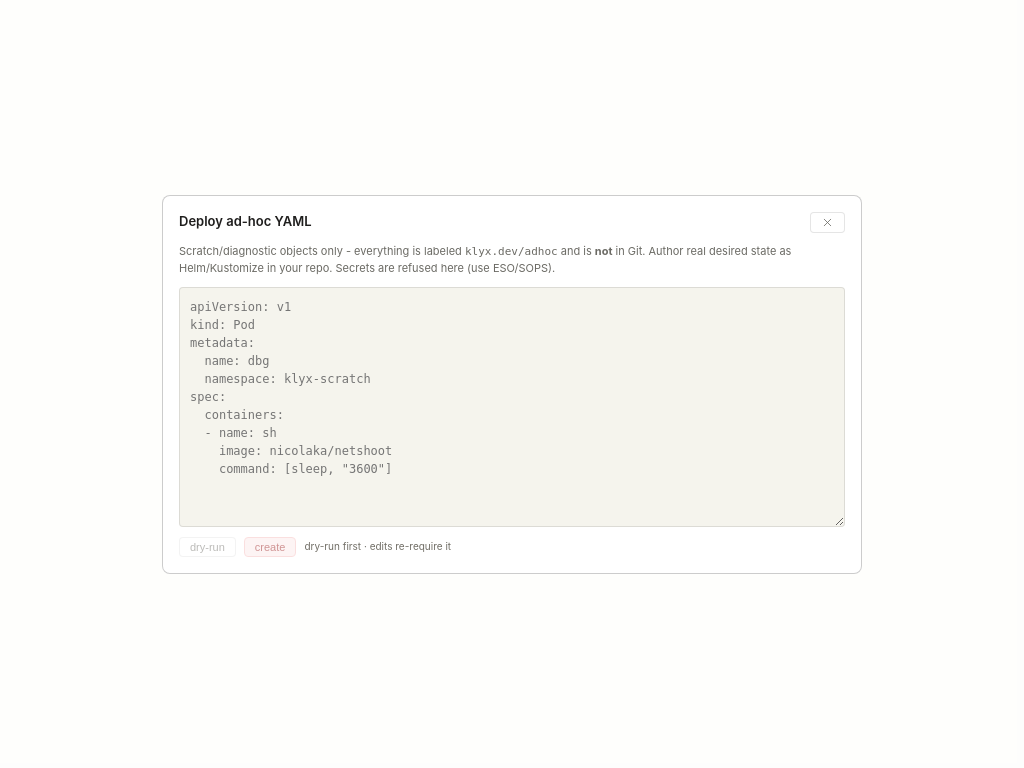
Test: AdhocComposer › names a Prune=false opt-out and drops to amber
The width and height of the screenshot is (1024, 768).
Replace the text in the text box with placeholder "apiVersion" with "doc" at (512, 406), box 179,286 -> 845,526
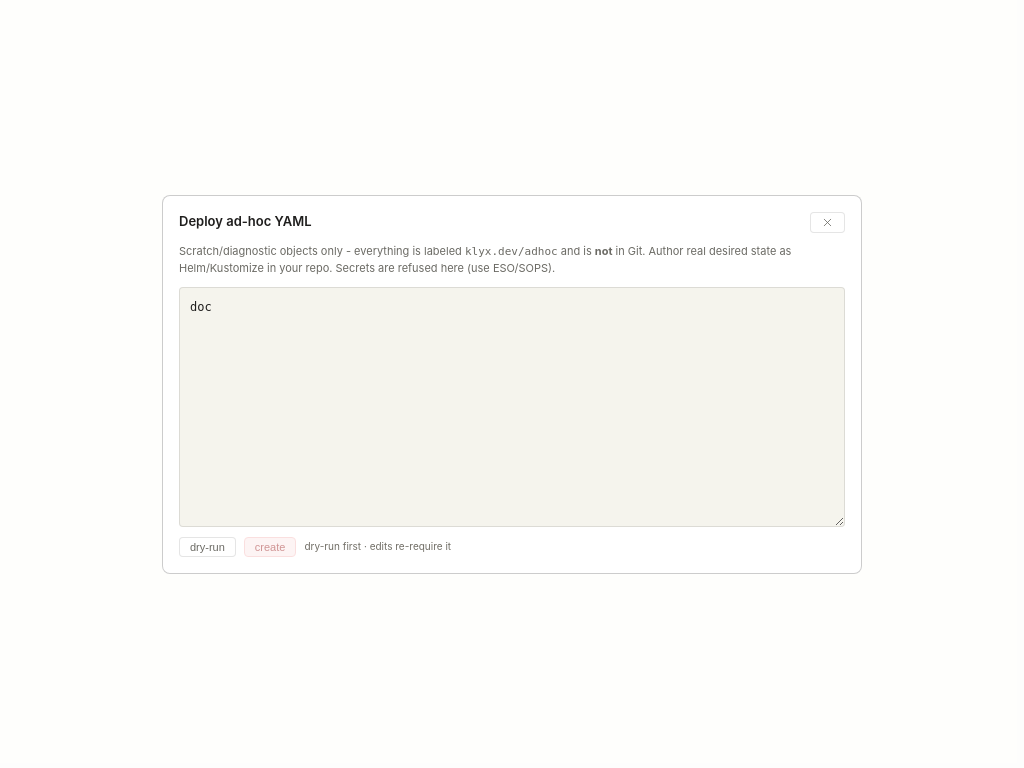
Click the button "dry-run" at (207, 546), box 179,536 -> 236,556
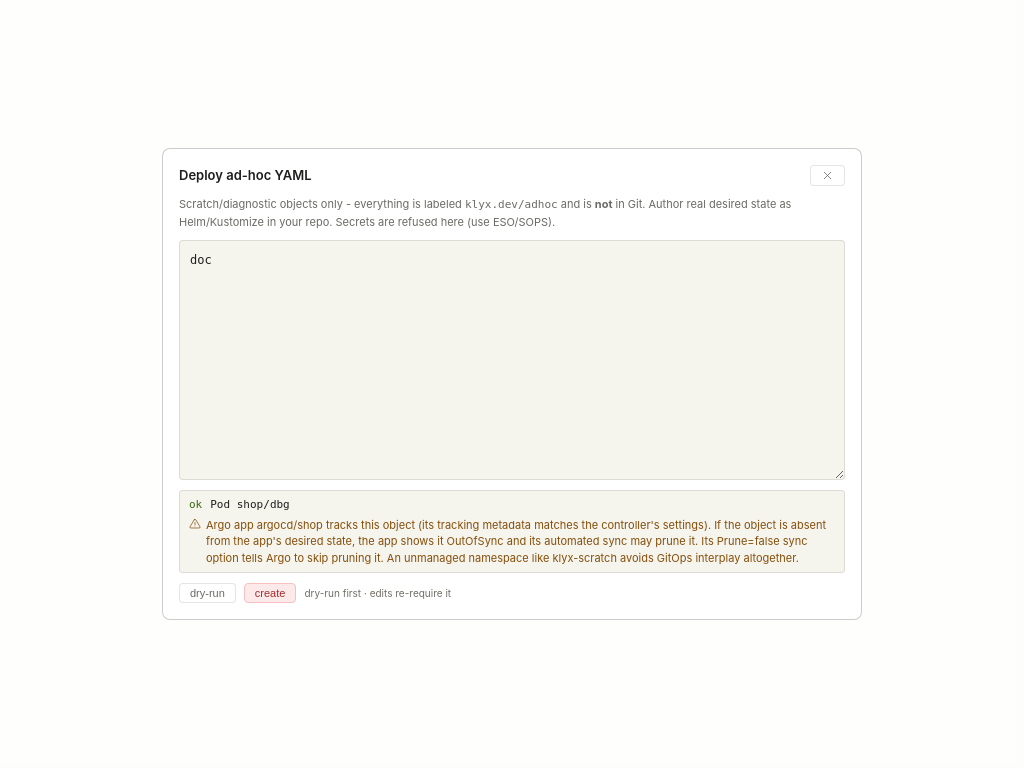
Result: the element with test id "namespace-context" shows "Prune=false sync option tells Argo to skip pruning it" at 206,518 -> 826,564
